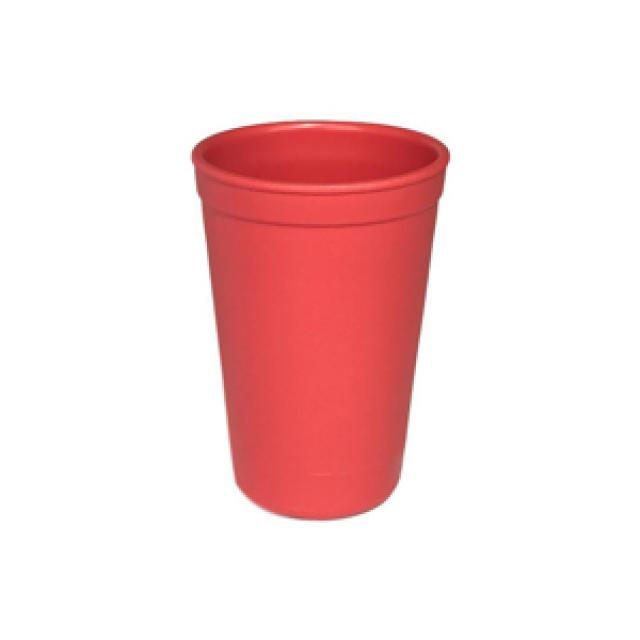plastic cup: (184, 113, 456, 527)
